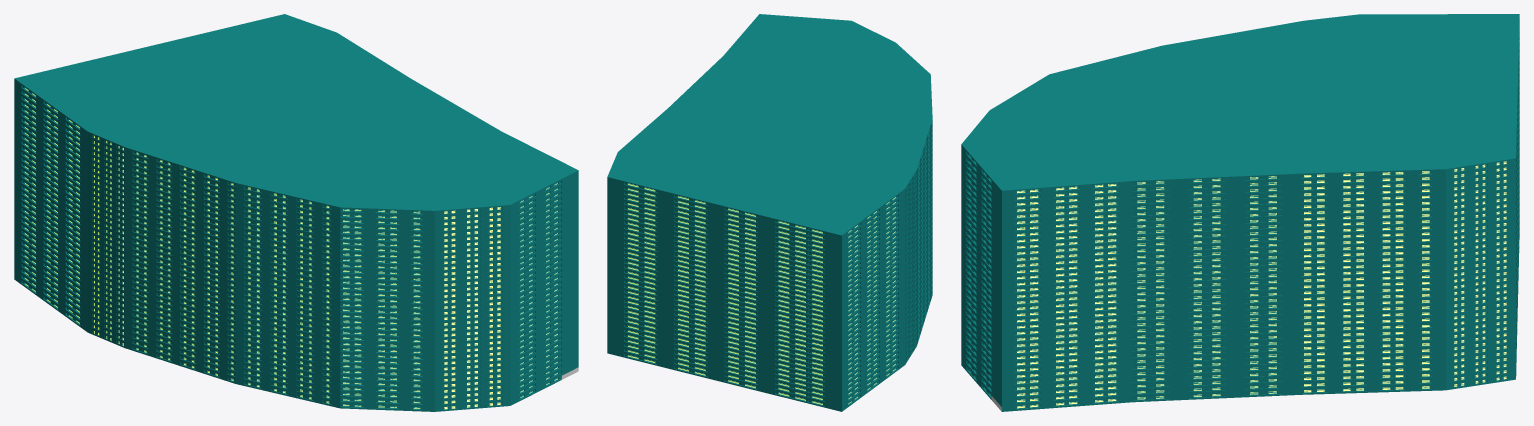
Rendered from 1_el_garcia_boulevard.fbx.
3 views of the same model, side by side, from view 1: azimuth 30°, elevation 25°; view 2: azimuth 150°, elevation 25°; view 3: azimuth 270°, elevation 25° (orthographic). The views are drawn at different scales.
Visible parts, largest first — view 1: Plane; view 2: Plane; view 3: Plane.
Part boxes in pixels (x1=…): Plane: x1=14, y1=14, x2=578, y2=411; Plane: x1=607, y1=14, x2=932, y2=411; Plane: x1=961, y1=14, x2=1519, y2=411.
Bounding box in the file's own units: 617 × 360 × 823.
